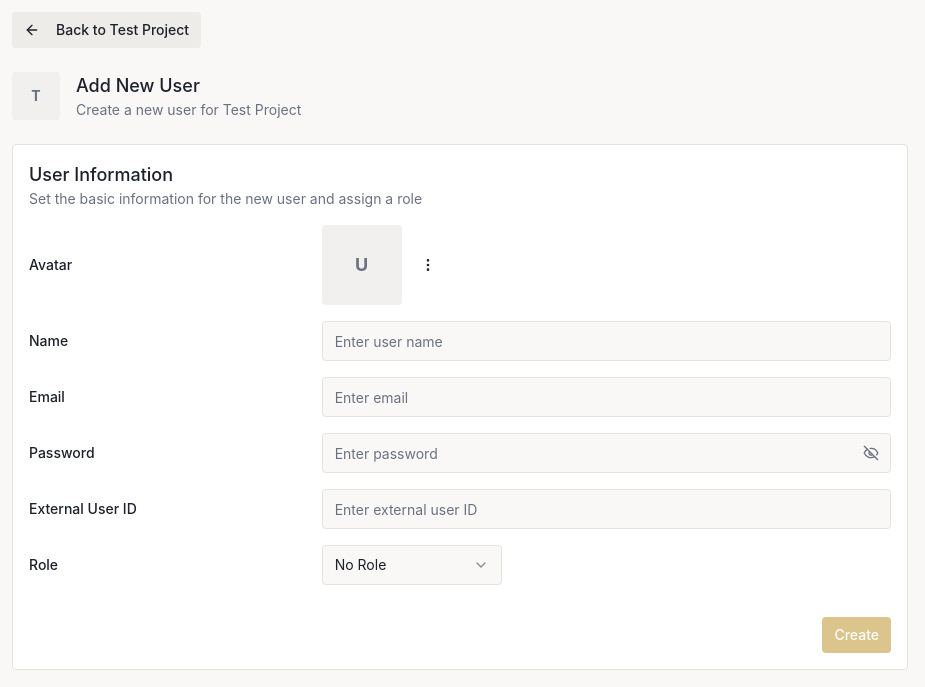
NewUser Page › enables create button when all required fields are filled
Expected: the heading "Add New User" is shown, [76,75,200,96]
Step 1. Type "John Doe" into the field labelled "Name" → (606, 341), box [322,321,891,361]
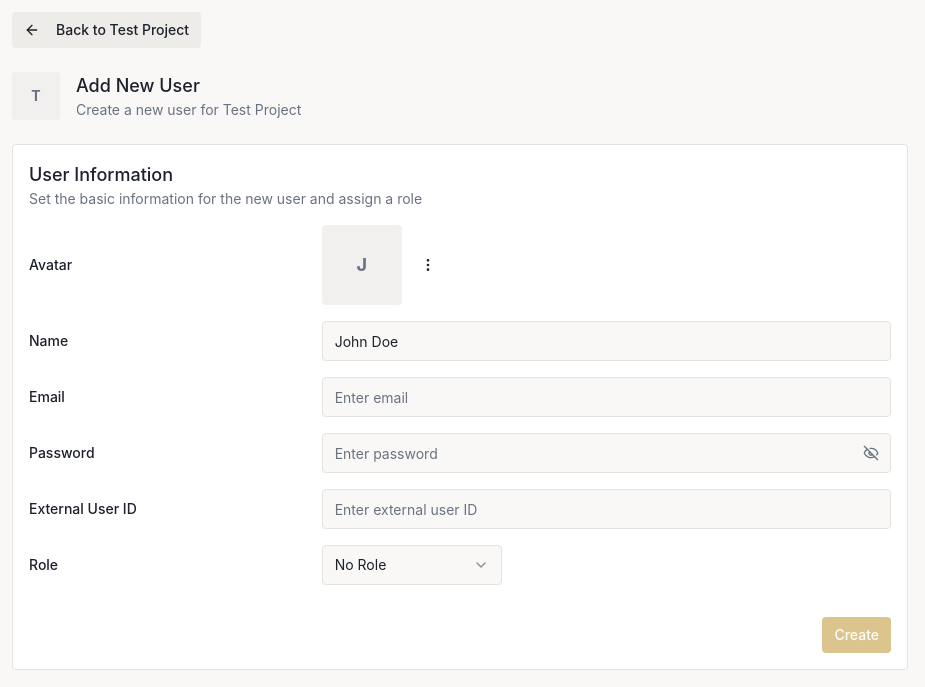
Expected: the button "Create" is disabled, [822,617,891,653]
// Fill in email and password
Step 2. Type "john@example.com" into the field labelled "Email" → (606, 397), box [322,377,891,417]
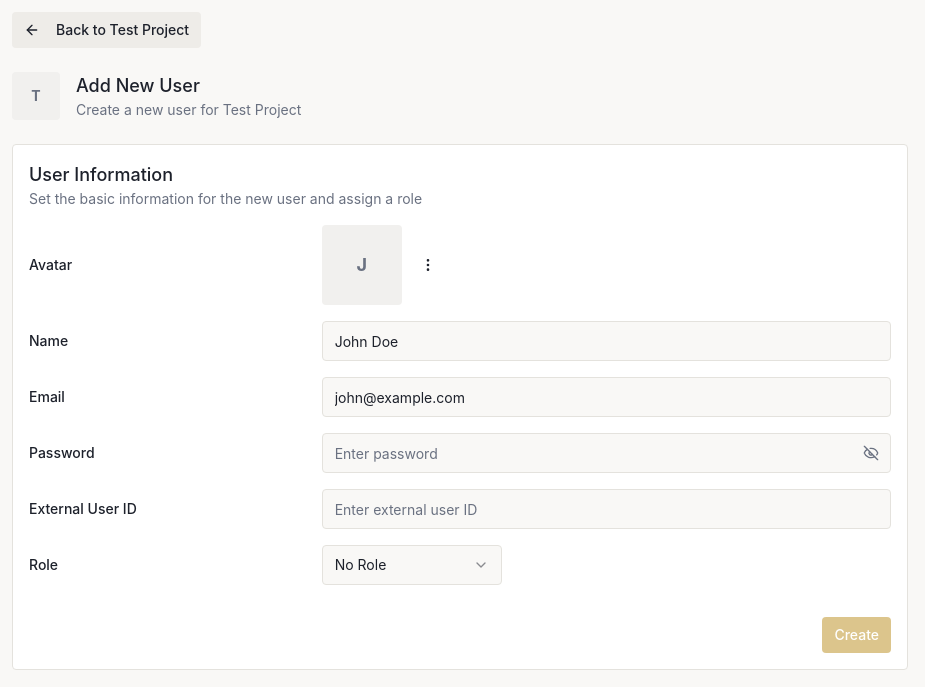
Step 3. Type "password123" into the password field labelled "Password" → (606, 453), box [322,433,891,473]
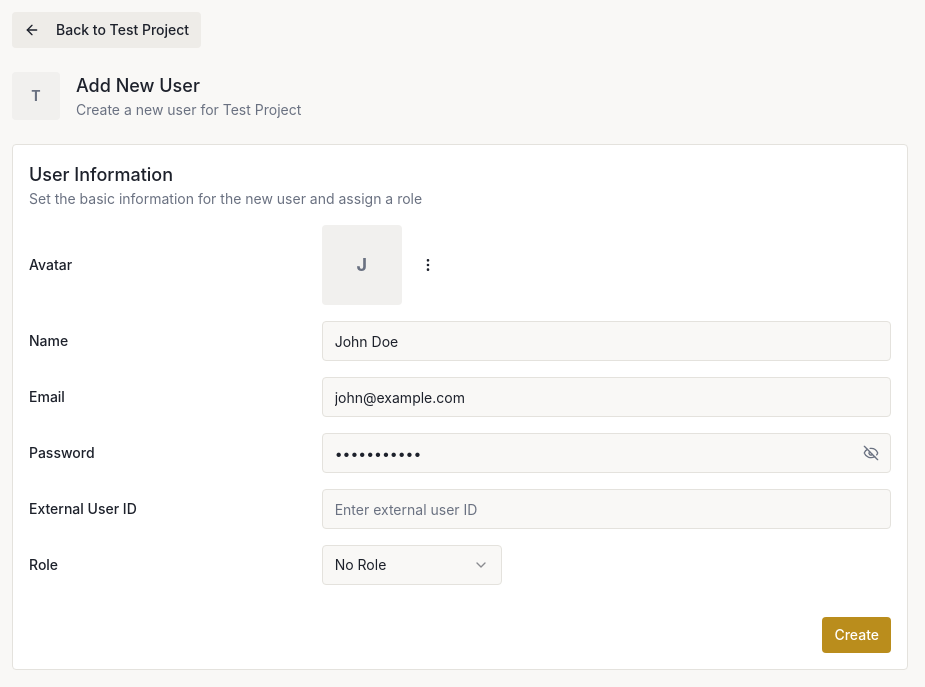
Now the button "Create" is enabled, box [822,617,891,653]
